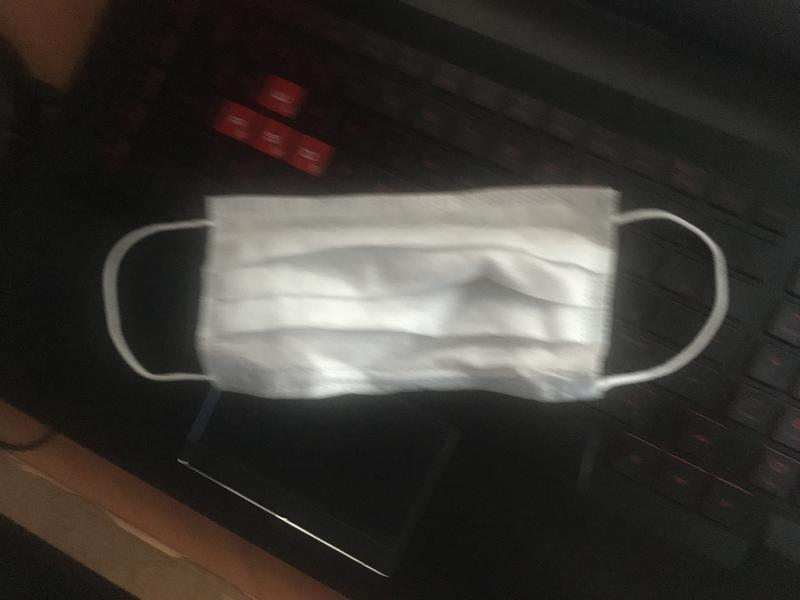medical_mask: (103, 189, 728, 402)
